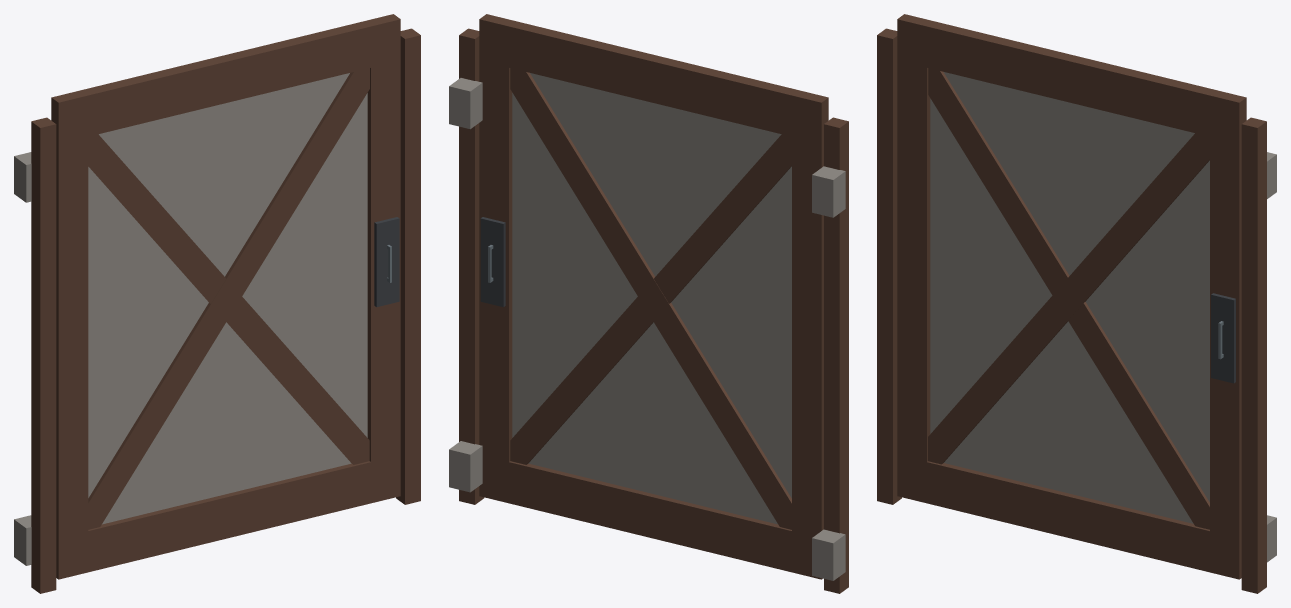
File: Wicket_03_A.gltf
The picture shows the model from 3 angles, left to right: view 1: azimuth 30°, elevation 25°; view 2: azimuth 150°, elevation 25°; view 3: azimuth 330°, elevation 25°; orthographic projection.
Parts seen in each view (by area): view 1: WicketDoor_03_A, Wicket_03_A; view 2: WicketDoor_03_A, Wicket_03_A; view 3: WicketDoor_03_A, Wicket_03_A.
Boxes of the visible parts, left/top/right/bottom form: WicketDoor_03_A: left=51, top=14, right=400, bottom=579; Wicket_03_A: left=14, top=28, right=420, bottom=593; WicketDoor_03_A: left=479, top=14, right=828, bottom=579; Wicket_03_A: left=449, top=28, right=848, bottom=593; WicketDoor_03_A: left=897, top=14, right=1246, bottom=579; Wicket_03_A: left=877, top=28, right=1276, bottom=593.
Bounding box in the file's own units: 0.6578 × 0.7911 × 0.0737.
